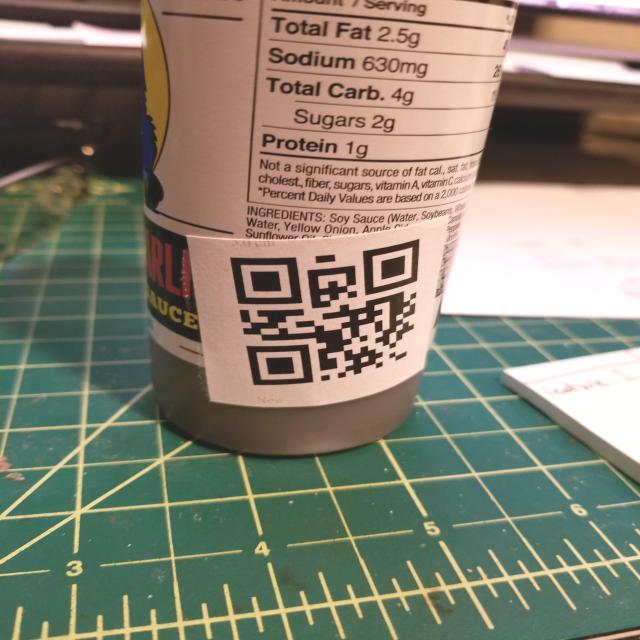QRCode: (212, 234, 425, 392)
